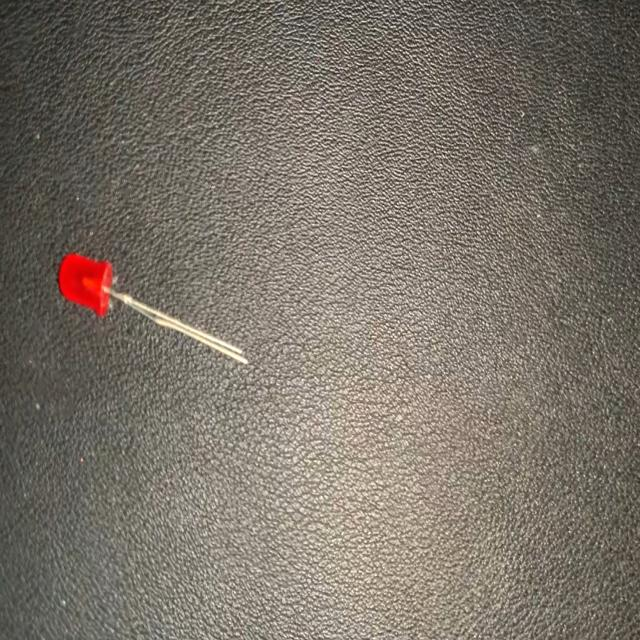LED: (58, 249, 248, 370)
